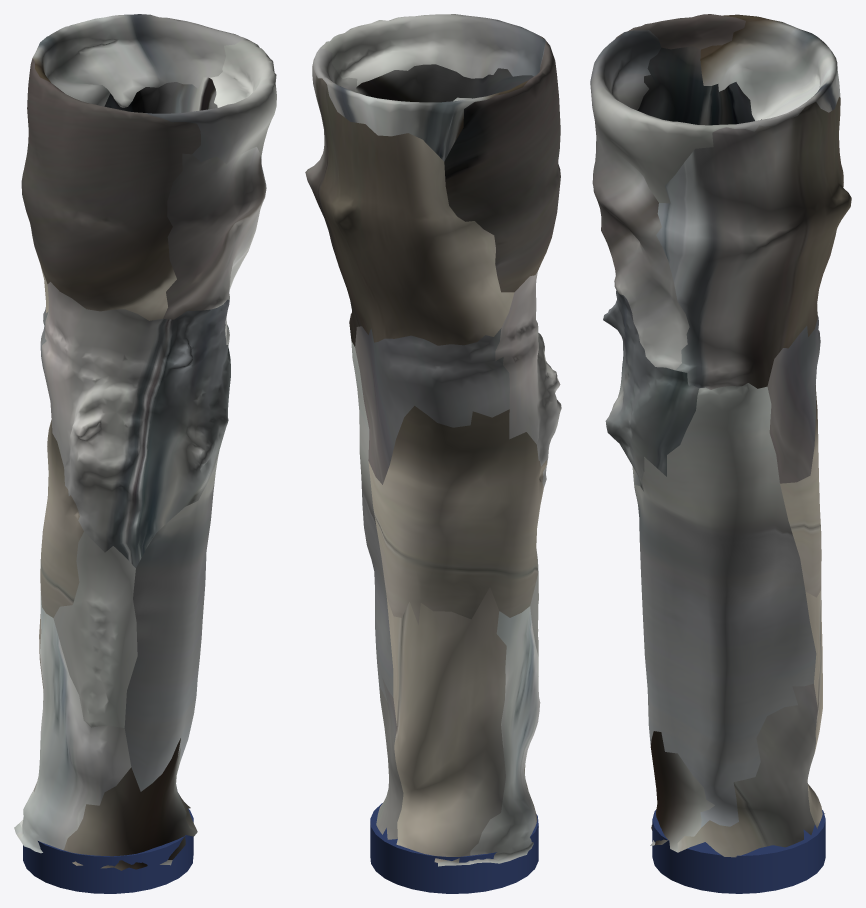
File: flashlightfinal.fbx
3 renders of one model, left to right at view 1: azimuth 30°, elevation 25°; view 2: azimuth 150°, elevation 25°; view 3: azimuth 270°, elevation 25°, orthographic. The views are drawn at different scales.
Parts seen in each view (by area): view 1: pCylinder2; view 2: pCylinder2; view 3: pCylinder2.
Part boxes in pixels (x1,y1,x2,y2): pCylinder2: (14,14,276,893); pCylinder2: (305,14,561,893); pCylinder2: (590,14,851,893).
Bounding box in the file's own units: 2.54 × 8.82 × 2.58.
